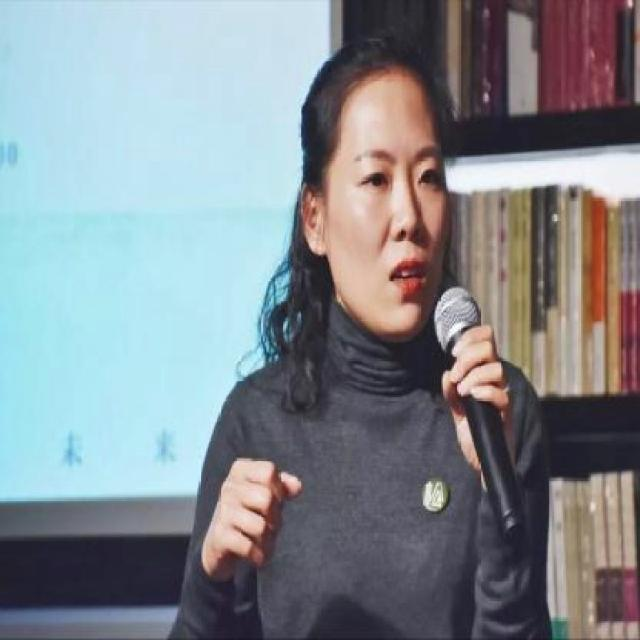face_nomask: (318, 114, 442, 321)
hand_noglove: (436, 325, 526, 486), (199, 454, 303, 580)
head_nohelmet: (311, 44, 449, 116)
person: (162, 40, 582, 640)
